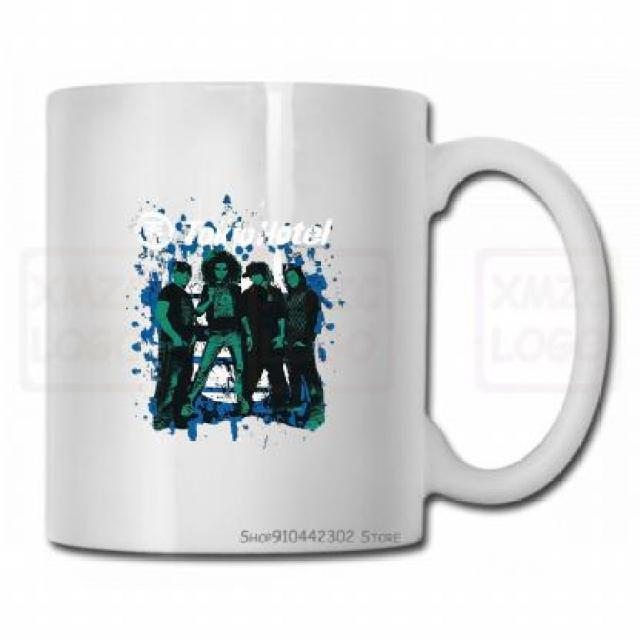taza: (41, 82, 611, 556)
